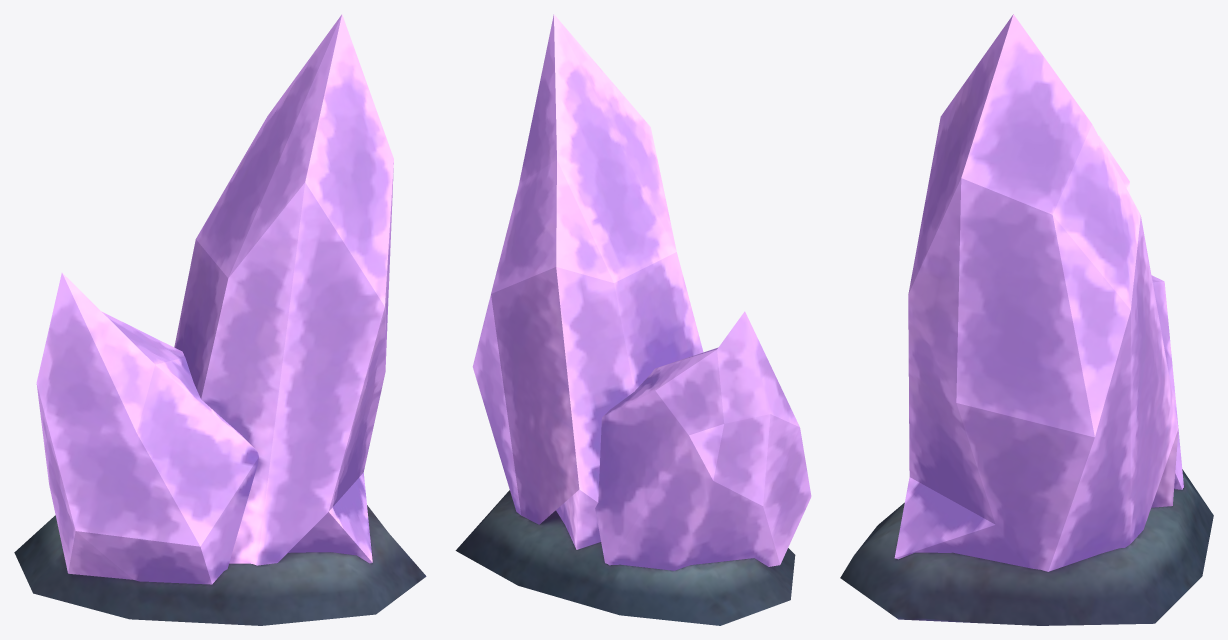
The model's file is bigCrystal.gltf.
The picture shows the model from 3 angles, left to right: view 1: azimuth 30°, elevation 25°; view 2: azimuth 150°, elevation 25°; view 3: azimuth 270°, elevation 25°; orthographic projection. The views are drawn at different scales.
Visible parts, largest first — view 1: defaultMaterial.002; view 2: defaultMaterial.002; view 3: defaultMaterial.002.
Boxes of the visible parts, x1=… form: defaultMaterial.002: x1=14, y1=14, x2=426, y2=625; defaultMaterial.002: x1=455, y1=14, x2=811, y2=625; defaultMaterial.002: x1=840, y1=14, x2=1213, y2=625.
Bounding box in the file's own units: 32.07 × 49.52 × 28.52.
Materials: 1 (1 with a texture image).
